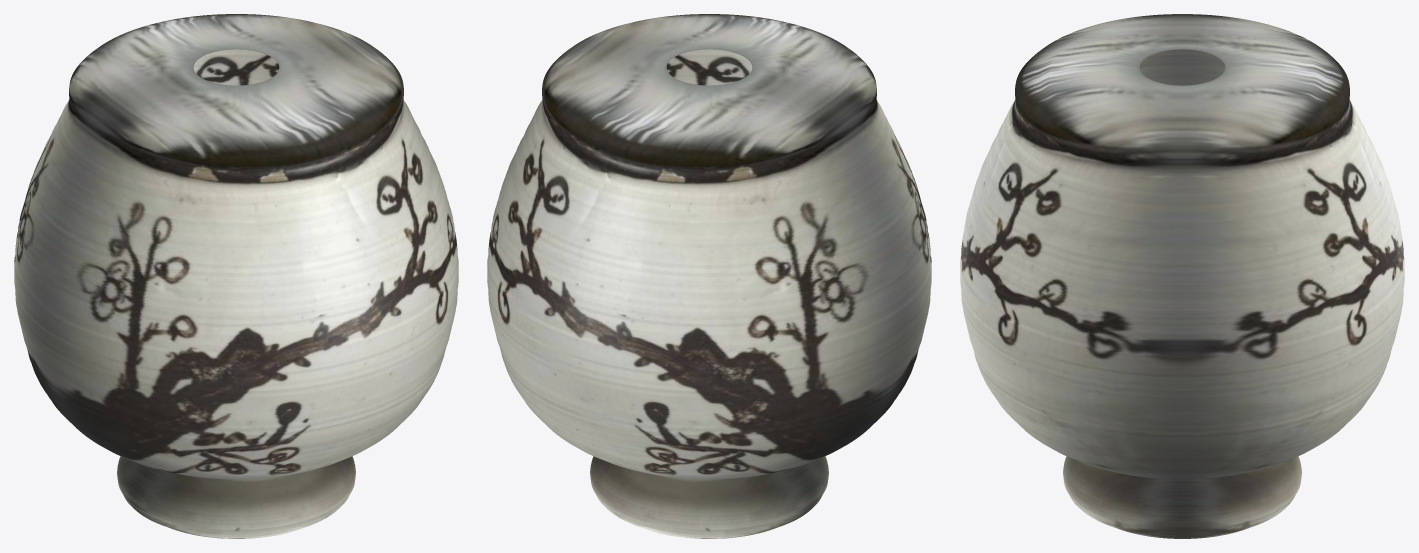
The model's file is cma-125997.glb.
3 renders of one model, left to right at view 1: azimuth 30°, elevation 25°; view 2: azimuth 150°, elevation 25°; view 3: azimuth 270°, elevation 25°, orthographic.
Parts seen in each view (by area): view 1: geometry_0; view 2: geometry_0; view 3: geometry_0.
Boxes of the visible parts, x1,y1,x2,y2 form: geometry_0: (14,14,458,538); geometry_0: (487,14,931,538); geometry_0: (960,14,1404,538).
Bounding box in the file's own units: 27.23 × 30 × 27.23.
1 material, 1 textured.
